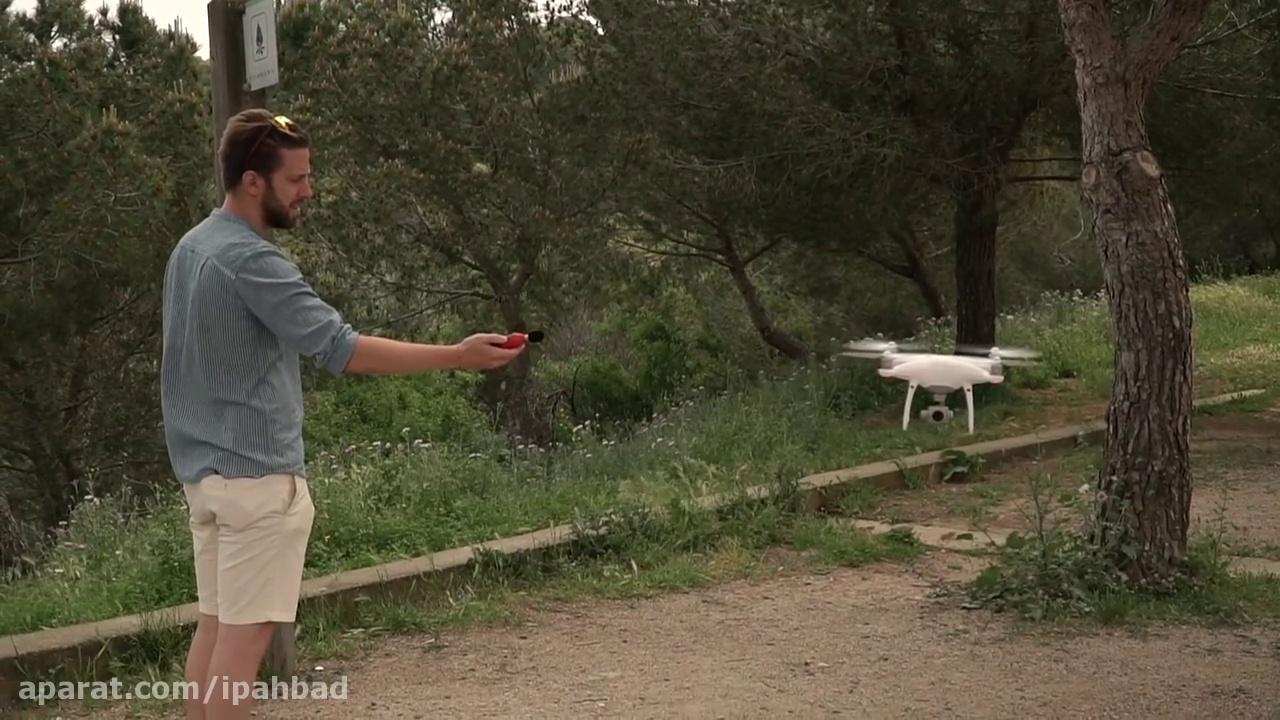drone: (833, 331, 1052, 434)
